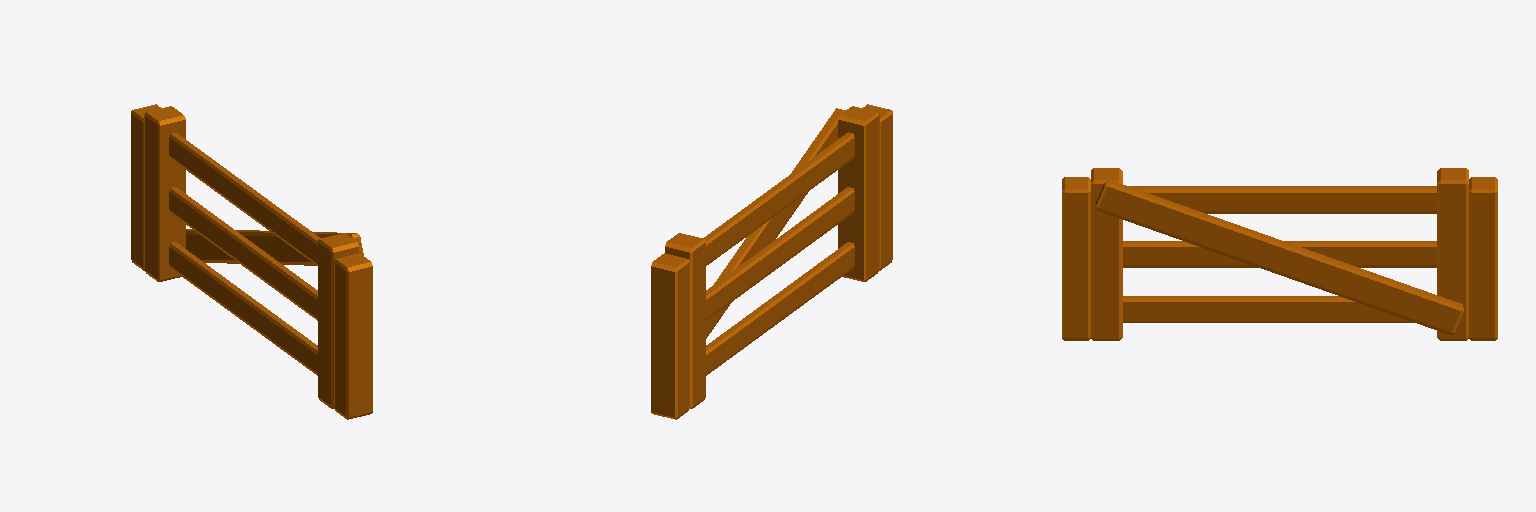
The model's file is Wood_Door.obj.
3 renders of one model, left to right at view 1: azimuth 30°, elevation 25°; view 2: azimuth 150°, elevation 25°; view 3: azimuth 270°, elevation 25°, orthographic.
Visible parts, largest first — view 1: Door_Cube.008; view 2: Door_Cube.008; view 3: Door_Cube.008.
Part boxes in pixels (x1,y1,x2,y2): Door_Cube.008: (131,104,372,419); Door_Cube.008: (651,104,892,419); Door_Cube.008: (1062,168,1497,340).
Size of the model in its own units: 0.4281 by 1.85 by 4.51.